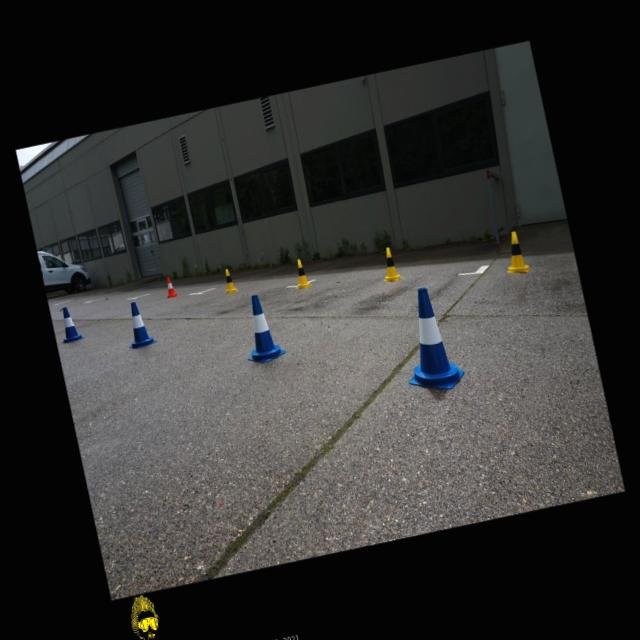blue_cone: (390, 283, 467, 397), (235, 290, 288, 366), (120, 298, 157, 349), (54, 304, 84, 343)
orange_cone: (162, 274, 177, 298)
yellow_cone: (498, 230, 530, 274), (377, 245, 402, 283), (290, 257, 312, 289), (220, 267, 238, 293)
